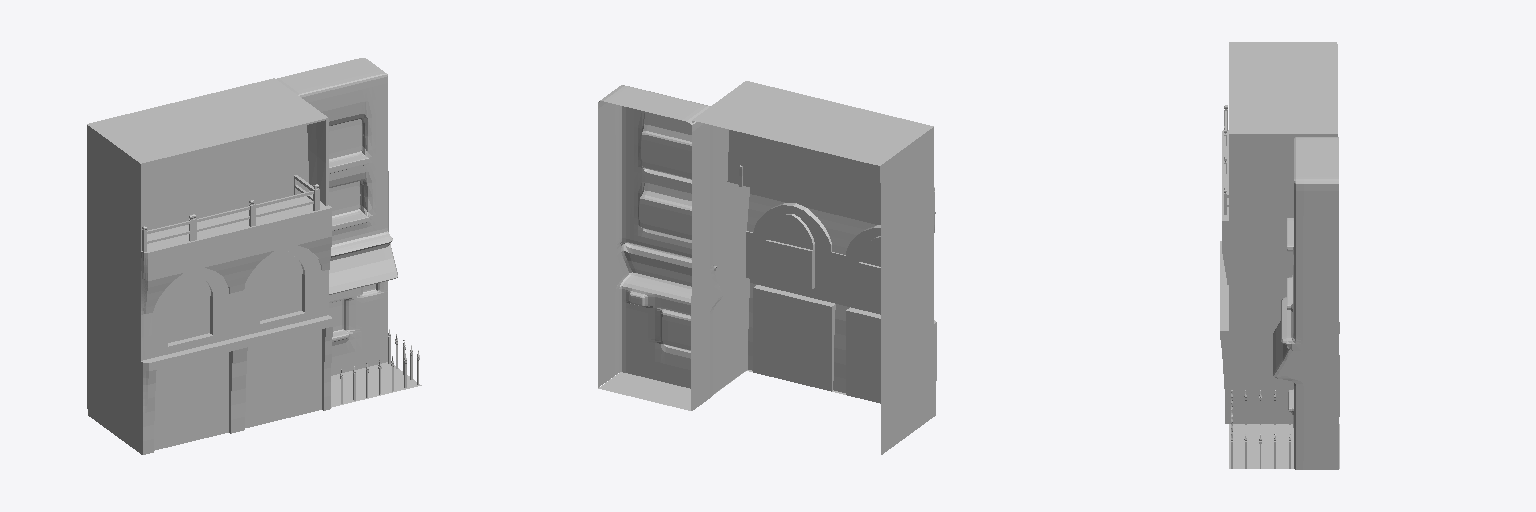
Rendered from module2.obj.
3 views of the same model, side by side, from view 1: azimuth 30°, elevation 25°; view 2: azimuth 150°, elevation 25°; view 3: azimuth 270°, elevation 25° (orthographic).
Parts seen in each view (by area): view 1: module2; view 2: module2; view 3: module2.
Boxes of the visible parts, <box> form: module2: <box>87,58,421,454</box>; module2: <box>598,81,936,454</box>; module2: <box>1220,42,1339,469</box>.
Size of the model in its own units: 16.33 by 16.1 by 5.99.